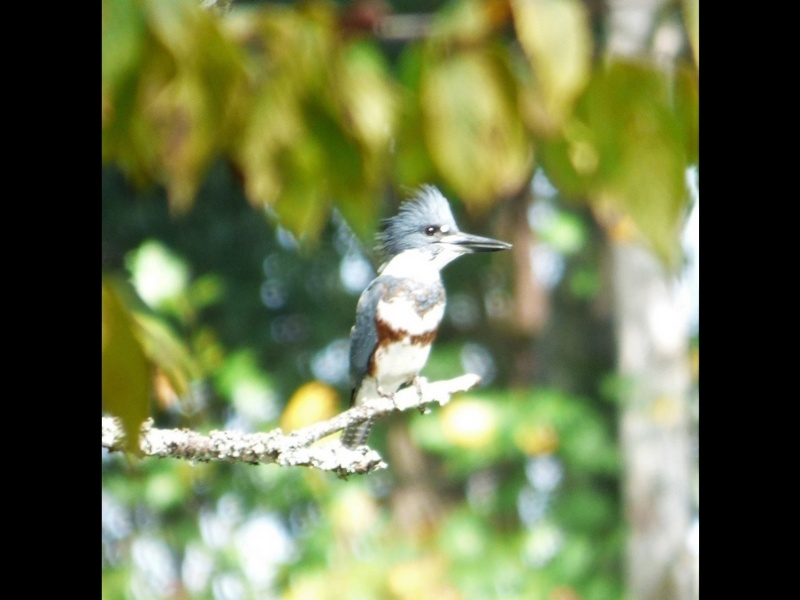kingfisher: (340, 180, 514, 456)
